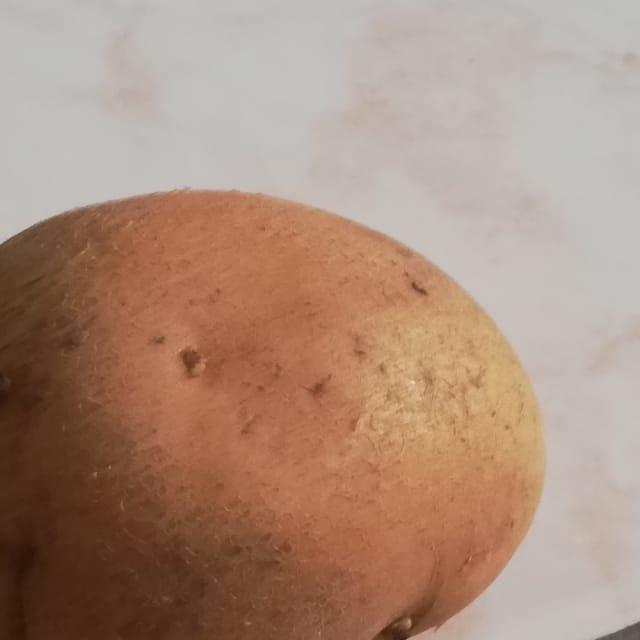potato: (0, 172, 568, 640)
